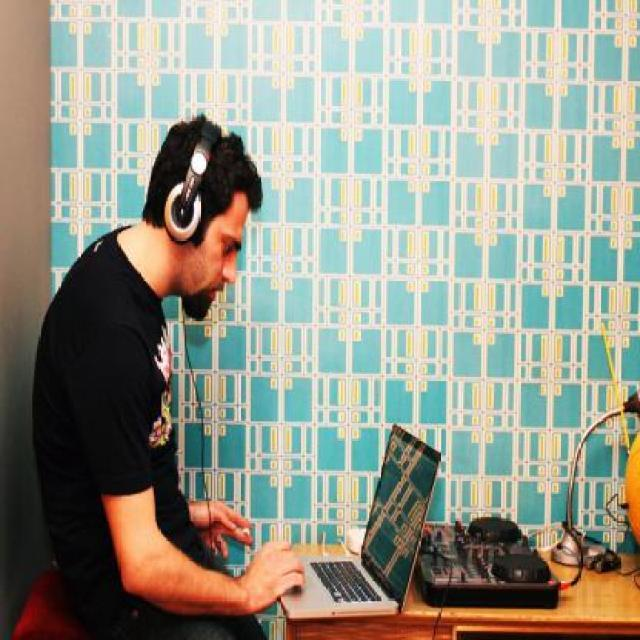earphone: (170, 98, 228, 252)
laptop_computer: (255, 360, 453, 638)
